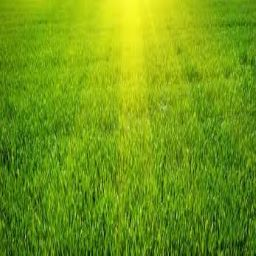grass: (2, 5, 251, 251)
